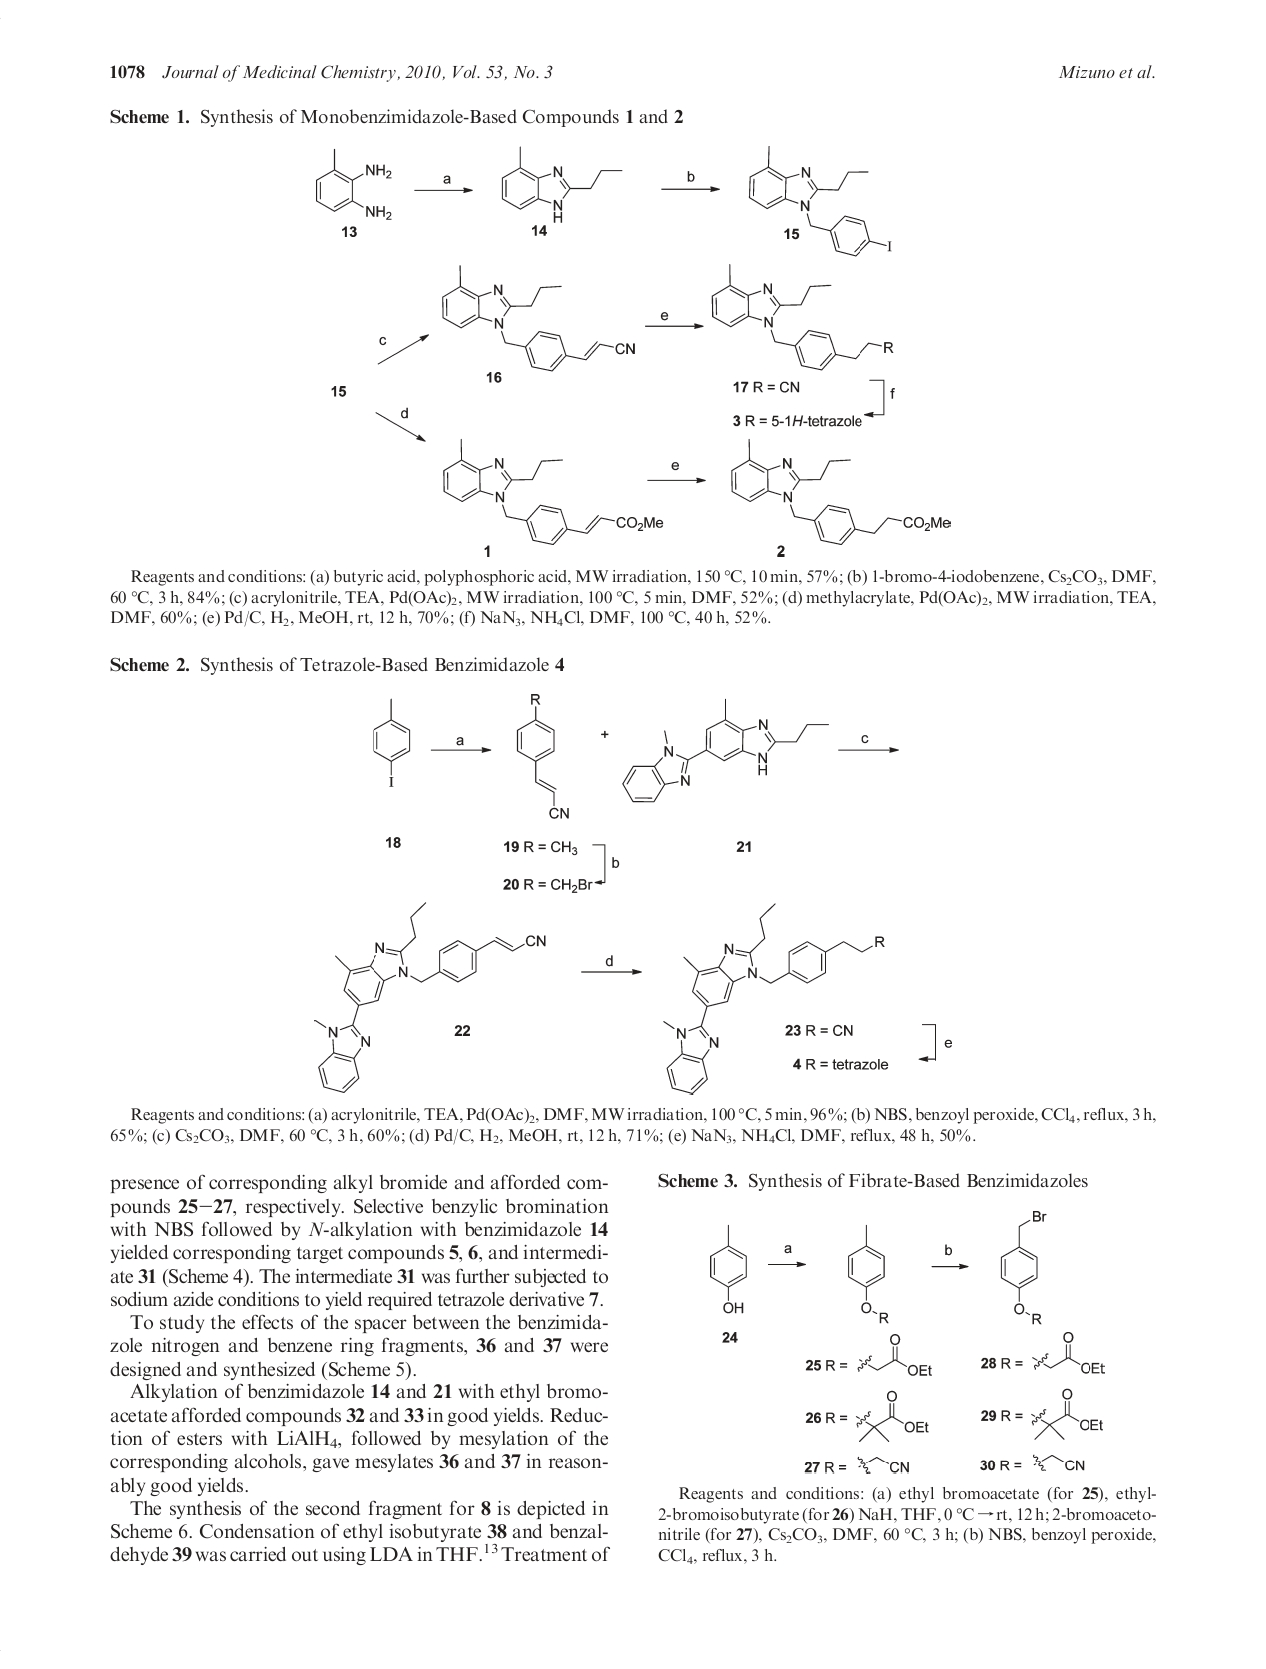exist_molecular: (313, 902, 548, 1094), (660, 900, 887, 1097), (729, 434, 955, 547), (442, 435, 664, 548), (621, 698, 830, 805), (442, 262, 637, 372), (709, 263, 895, 372), (746, 144, 894, 259), (497, 144, 625, 225), (516, 690, 570, 822), (313, 148, 395, 222), (997, 1208, 1047, 1327), (844, 1222, 891, 1325), (1027, 1384, 1105, 1442), (854, 1388, 930, 1446), (370, 696, 412, 789), (856, 1330, 934, 1379), (1029, 1329, 1105, 1376), (709, 1222, 747, 1314), (854, 1451, 912, 1475), (1031, 1452, 1088, 1474)
